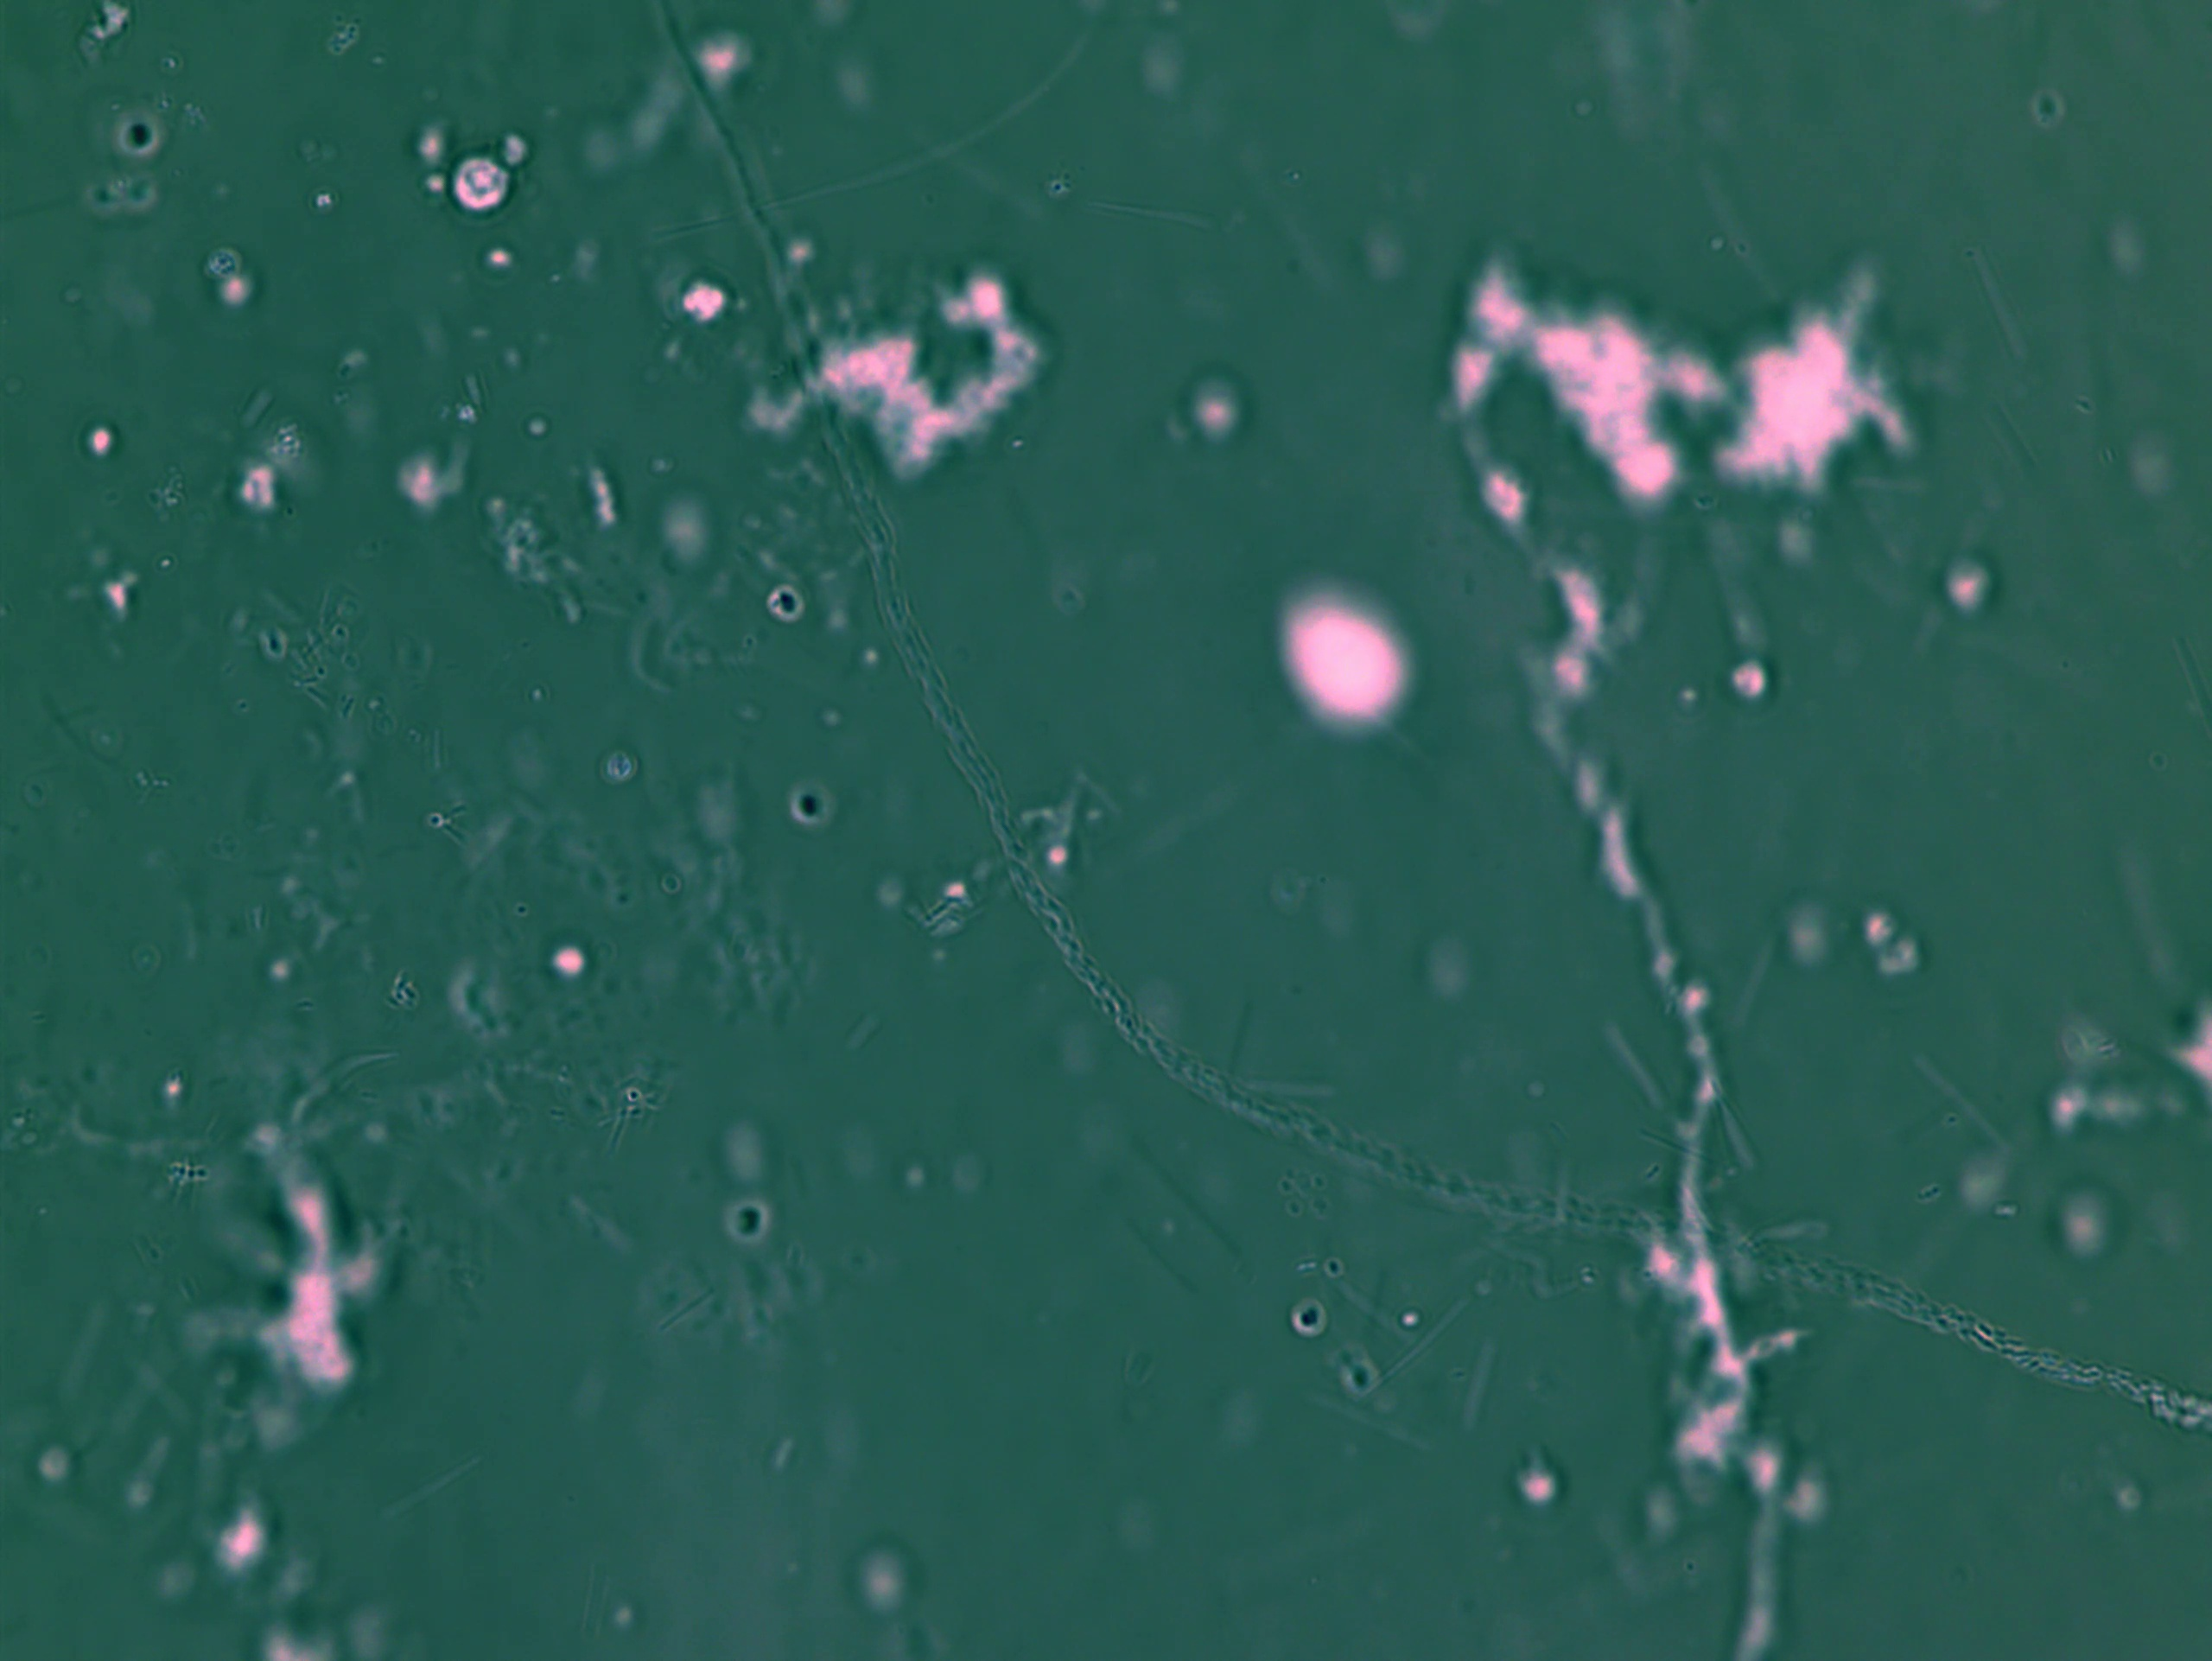depth:80: (1225, 564, 1450, 748)
